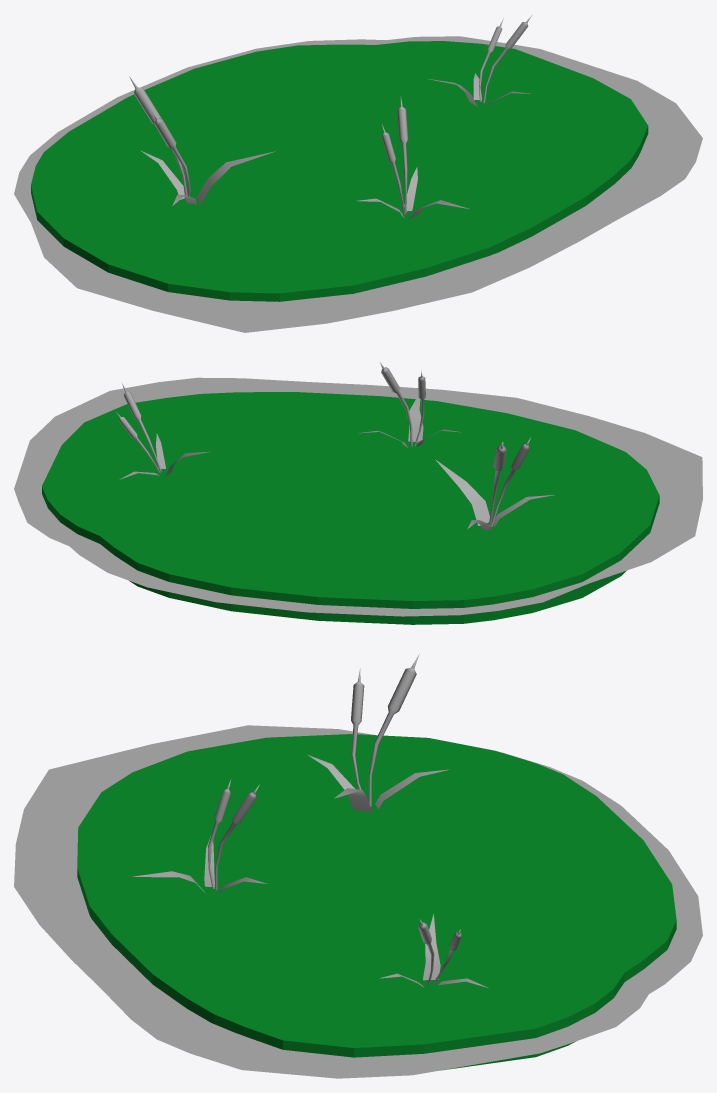
The model's file is Swamp_01.fbx.
3 renders of one model, top to bottom at view 1: azimuth 30°, elevation 25°; view 2: azimuth 150°, elevation 25°; view 3: azimuth 270°, elevation 25°, orthographic. The views are drawn at different scales.
Parts seen in each view (by area): view 1: COL_Swamp_01, Swamp_01; view 2: COL_Swamp_01, Swamp_01; view 3: COL_Swamp_01, Swamp_01.
Part boxes in pixels (<box>): COL_Swamp_01: <box>31,41,648,301</box>; Swamp_01: <box>14,15,702,332</box>; COL_Swamp_01: <box>42,392,659,624</box>; Swamp_01: <box>14,362,702,616</box>; COL_Swamp_01: <box>77,734,676,1070</box>; Swamp_01: <box>14,654,702,1078</box>.
Bounding box in the file's own units: 371 × 79.2 × 306.
